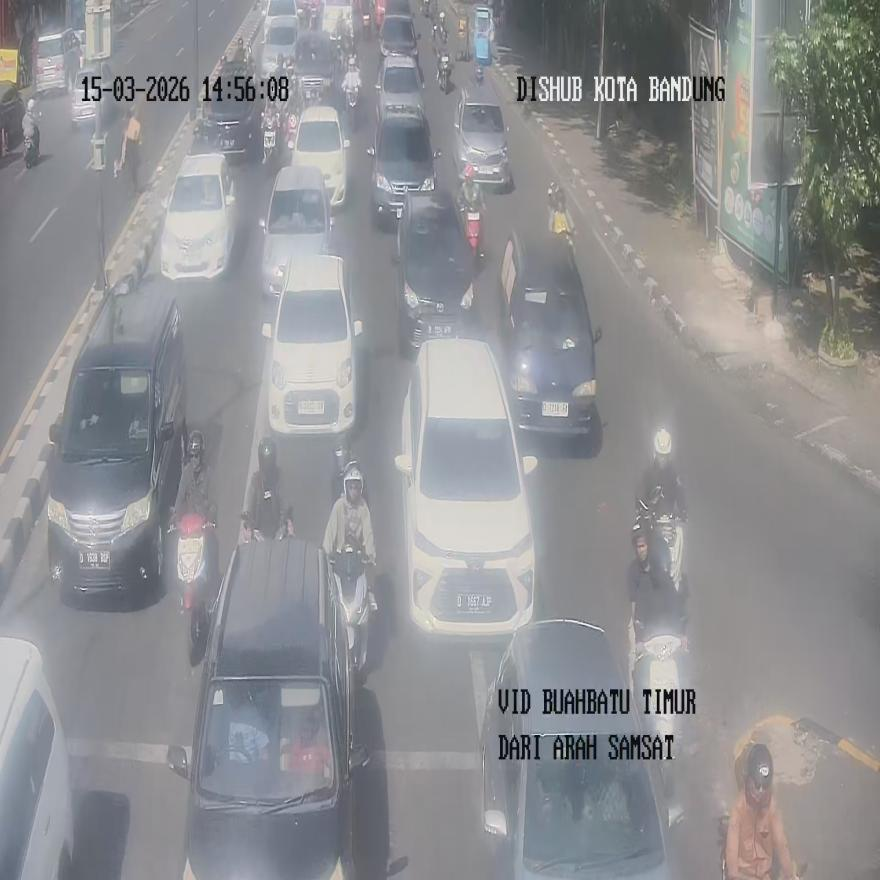Motor: (167, 536, 369, 878), (479, 619, 684, 879), (46, 279, 187, 597), (395, 339, 538, 636), (499, 227, 602, 435), (262, 254, 362, 442), (0, 637, 74, 878), (392, 190, 476, 356), (260, 164, 334, 296), (160, 153, 236, 281), (367, 107, 441, 219), (376, 52, 425, 121)
Truk: (632, 624, 690, 796), (167, 510, 218, 666), (330, 545, 376, 684), (240, 437, 294, 544), (458, 166, 485, 262), (547, 181, 575, 256), (22, 98, 40, 168), (343, 57, 360, 130), (262, 110, 278, 165), (345, 82, 359, 132), (438, 51, 453, 94), (456, 14, 468, 62)
